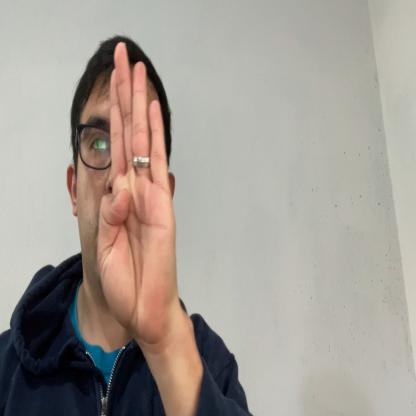B: (98, 38, 178, 335)
